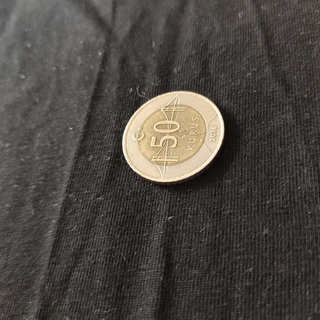50KURUS: (120, 88, 227, 186)
